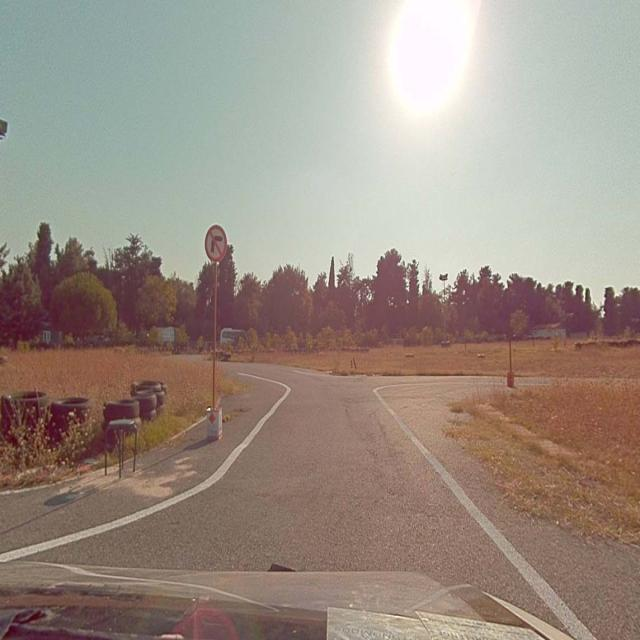sagadonulmez: (206, 225, 226, 260)
